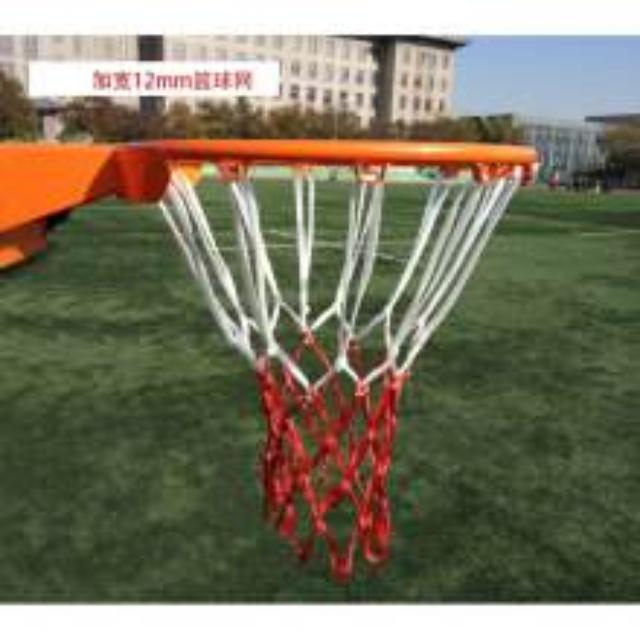rim: (116, 138, 538, 562)
